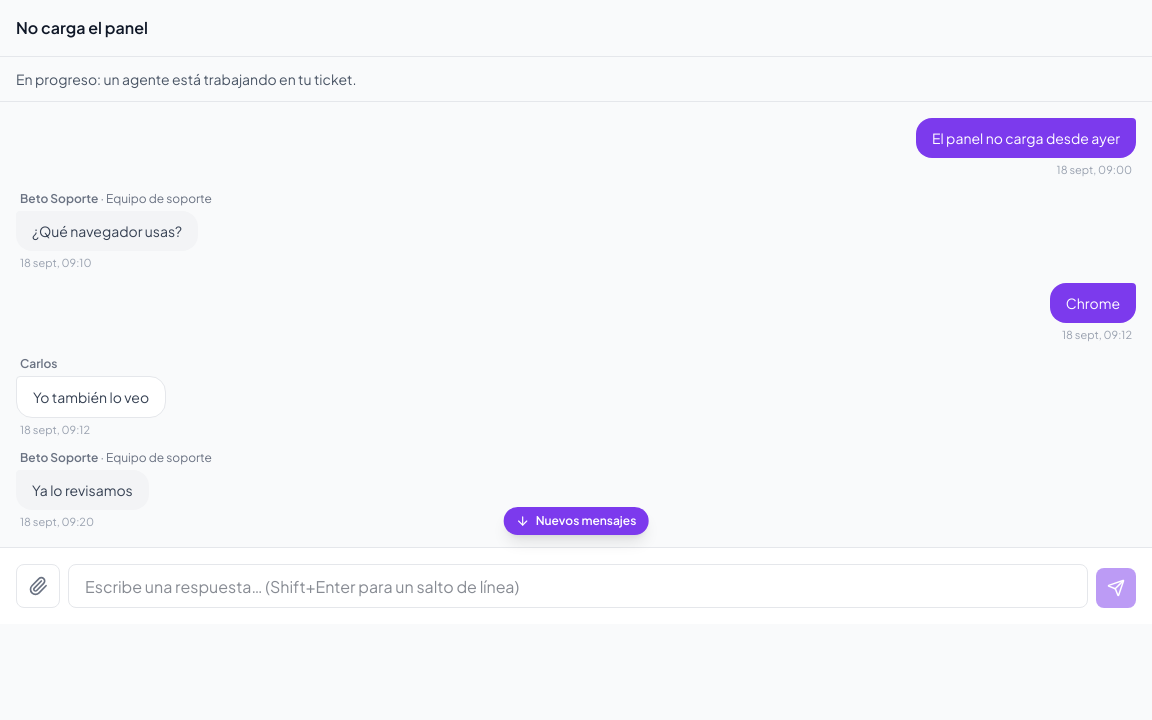
PortalThread › no mueve el scroll si el usuario leía más arriba y avisa de mensajes nuevos
The image size is (1152, 720).
Click the button "Nuevos mensajes".
click(576, 520)  # box [504,506,648,534]
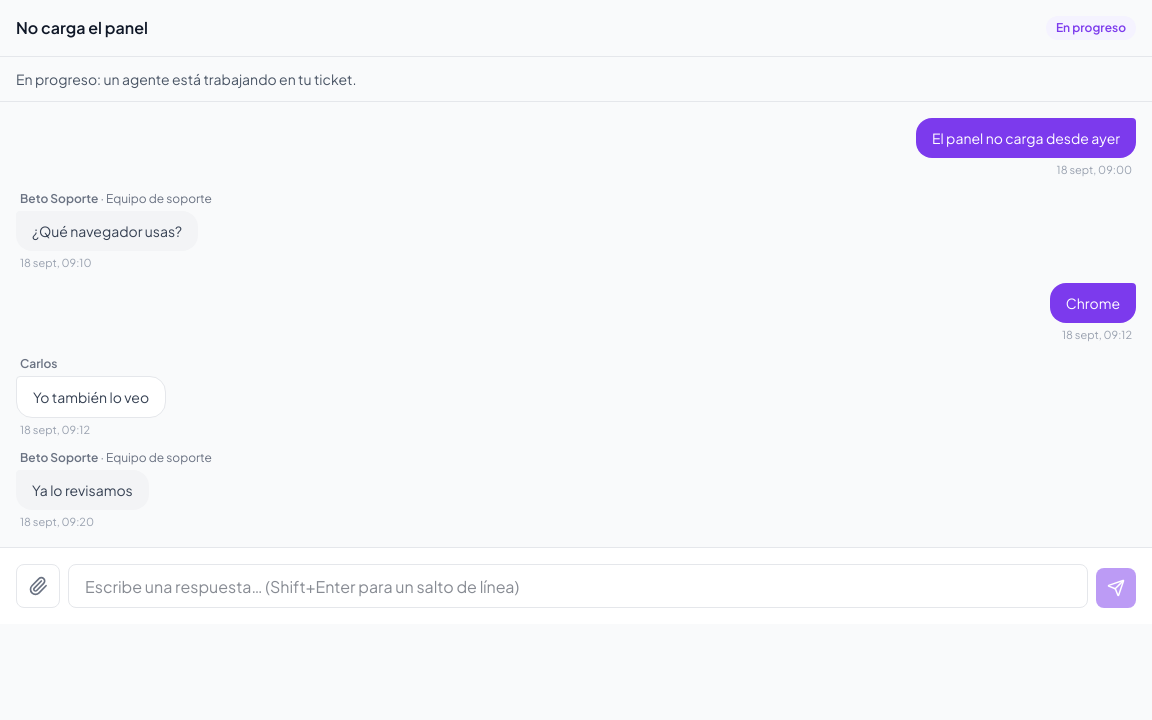
Now the button "Nuevos mensajes" is gone
